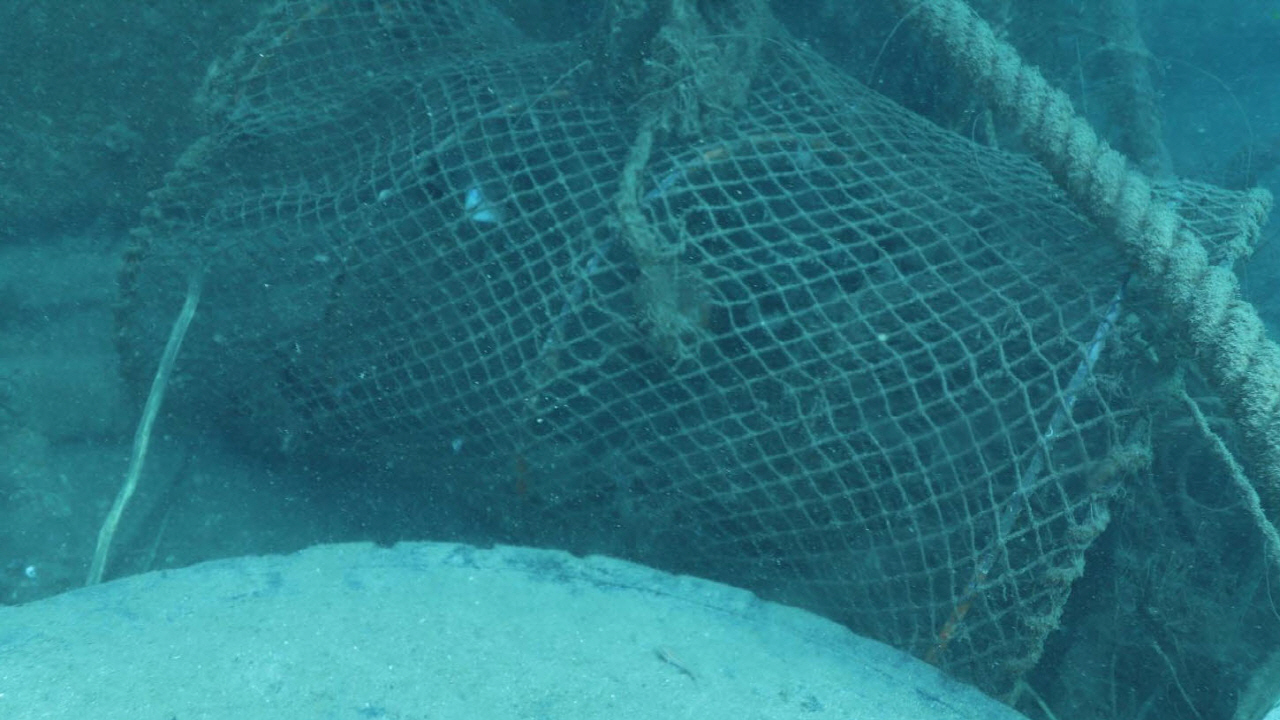rope: (898, 0, 1280, 504)
spring fish trap: (109, 4, 1274, 709)
